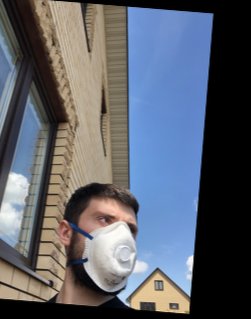with_mask: (78, 209, 137, 296)
